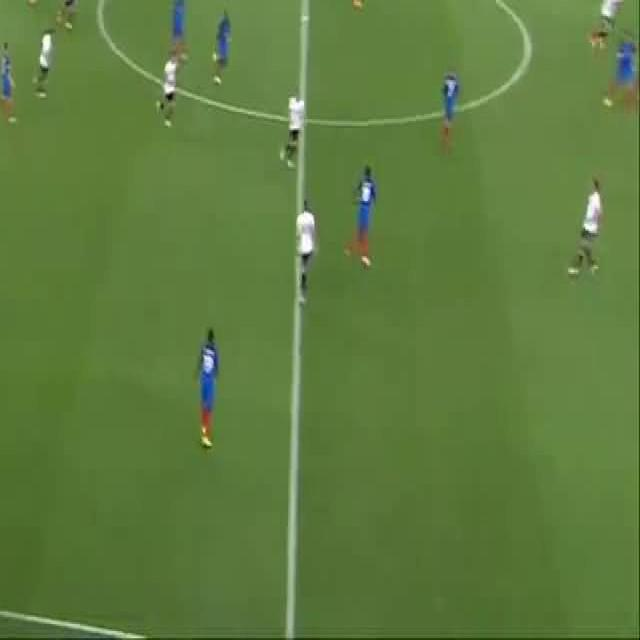player-white: (567, 180, 603, 276), (346, 164, 376, 268), (194, 327, 219, 448), (603, 31, 639, 108), (295, 200, 317, 310), (280, 88, 304, 169), (155, 53, 181, 126), (440, 69, 459, 155), (32, 29, 54, 99), (212, 8, 232, 84), (590, 0, 623, 46), (0, 42, 17, 124), (172, 0, 185, 57), (56, 0, 79, 28), (352, 0, 367, 7), (24, 0, 39, 4)
